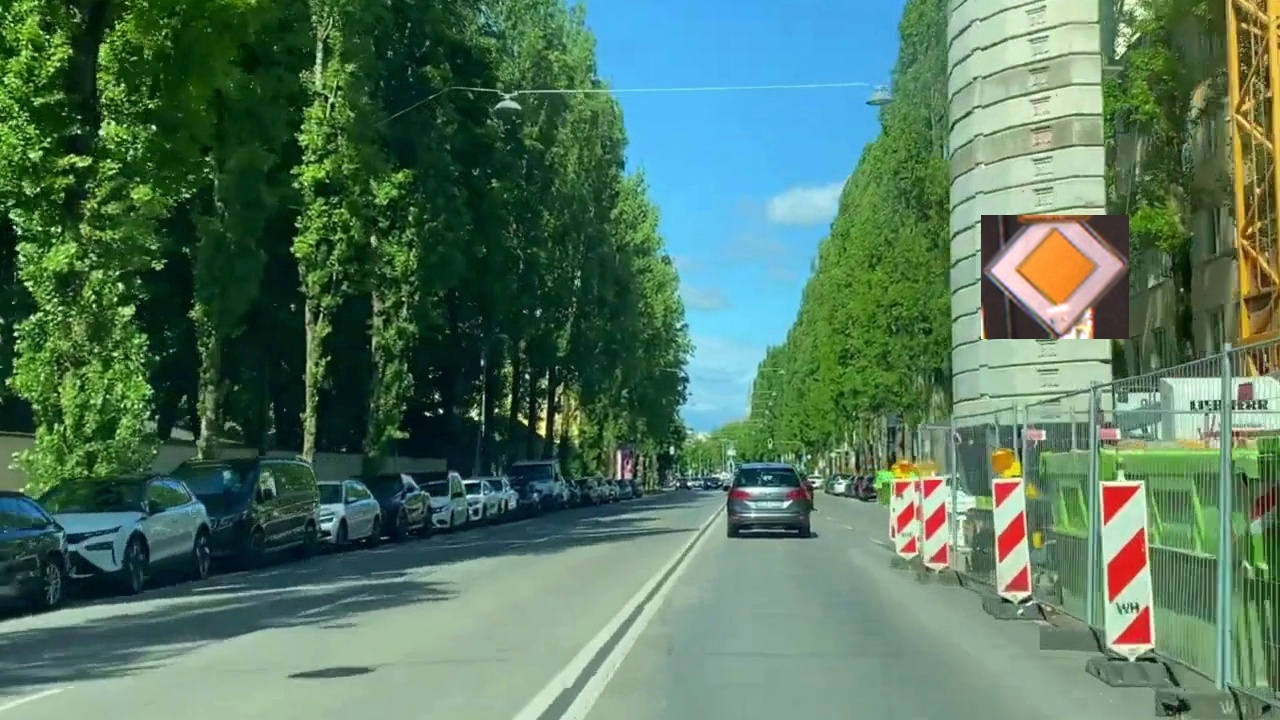Priority road: (981, 215, 1129, 339)
